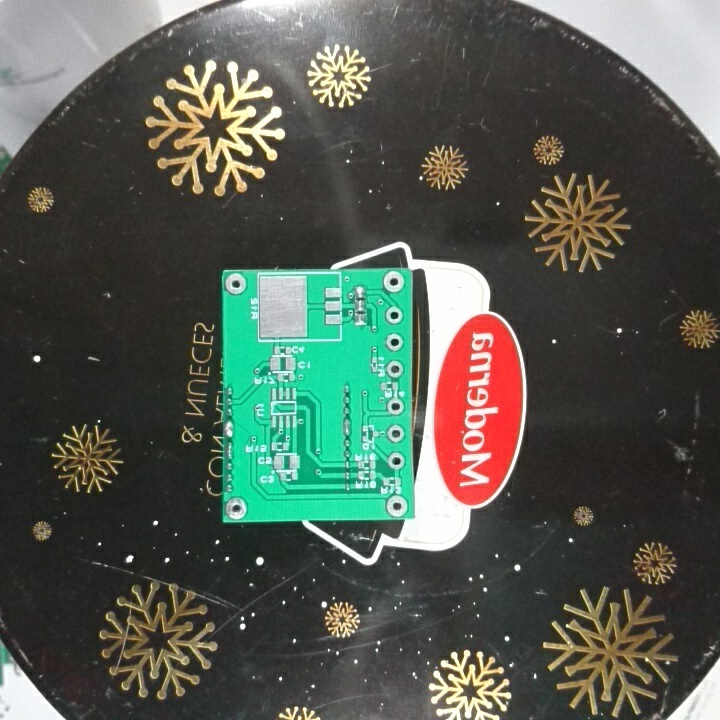F: (381, 269, 407, 295), (222, 272, 248, 298), (223, 495, 248, 520), (385, 493, 409, 518), (383, 332, 406, 354), (383, 303, 404, 327), (386, 450, 407, 472), (385, 395, 405, 418), (384, 358, 405, 379), (385, 423, 405, 444)
P: (221, 418, 237, 443), (341, 417, 356, 438), (223, 442, 236, 463)
